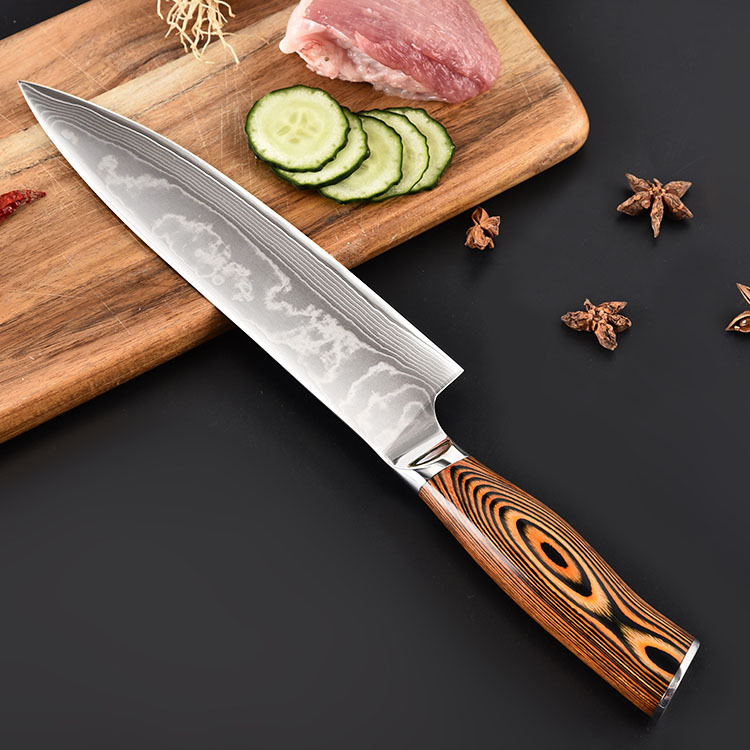knief: (38, 77, 704, 708)
